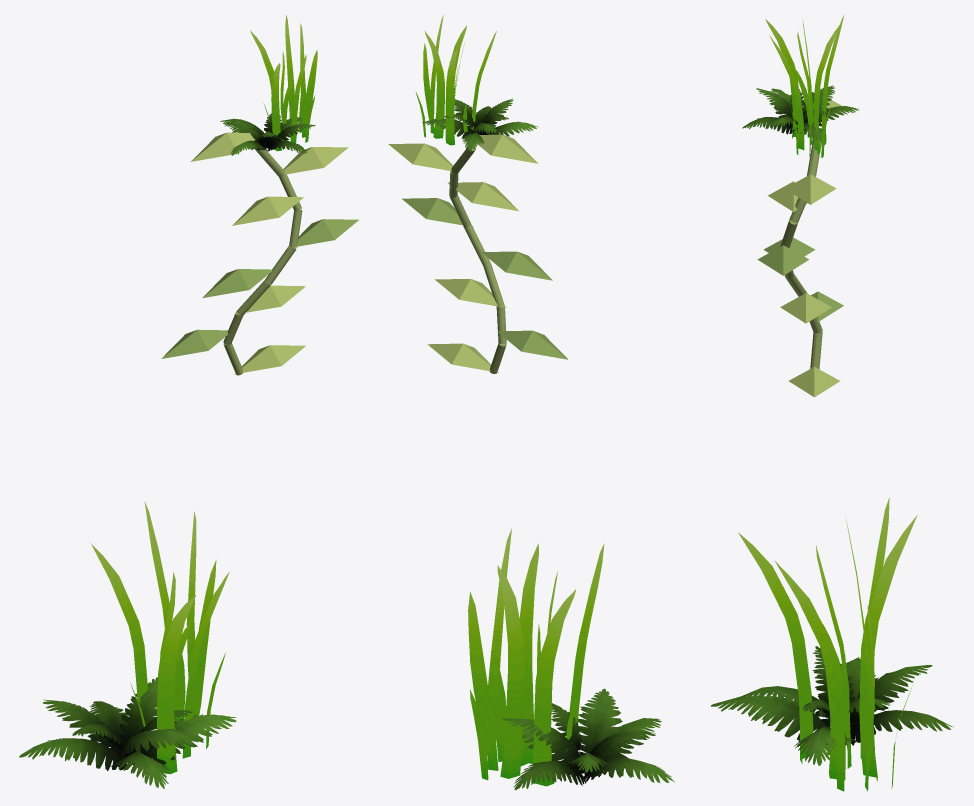
Rendered from Trail_Sign_Greenery.glb.
The picture shows the model from 3 angles, left to right: view 1: azimuth 30°, elevation 25°; view 2: azimuth 150°, elevation 25°; view 3: azimuth 270°, elevation 25°; orthographic projection. The views are drawn at different scales.
Visible parts, largest first — view 1: Patch_000, Patch_001; view 2: Patch_000, Patch_001; view 3: Patch_000, Patch_001.
Boxes of the visible parts, <box> form: Patch_000: <box>19,501,236,788</box>; Patch_001: <box>161,15,358,375</box>; Patch_000: <box>468,528,674,790</box>; Patch_001: <box>388,15,568,373</box>; Patch_000: <box>711,497,953,791</box>; Patch_001: <box>742,15,859,397</box>.
Size of the model in its own units: 1.03 by 2.28 by 0.6422.
5 materials, 2 textured.
